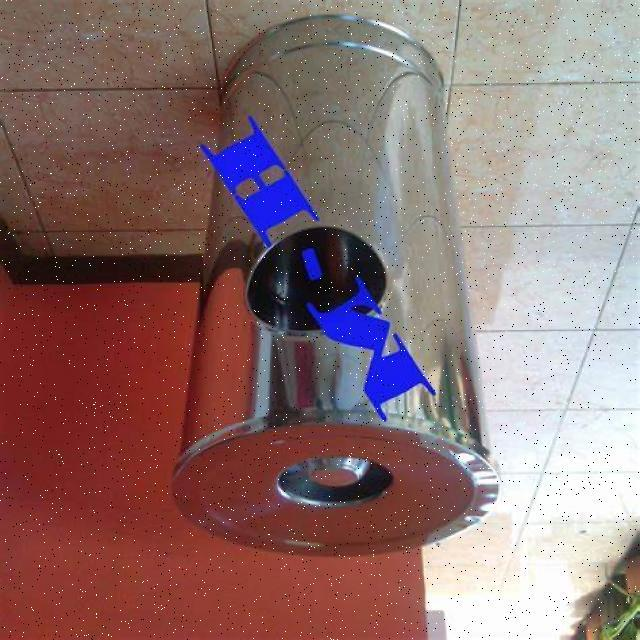garbage container: (166, 10, 532, 569)
